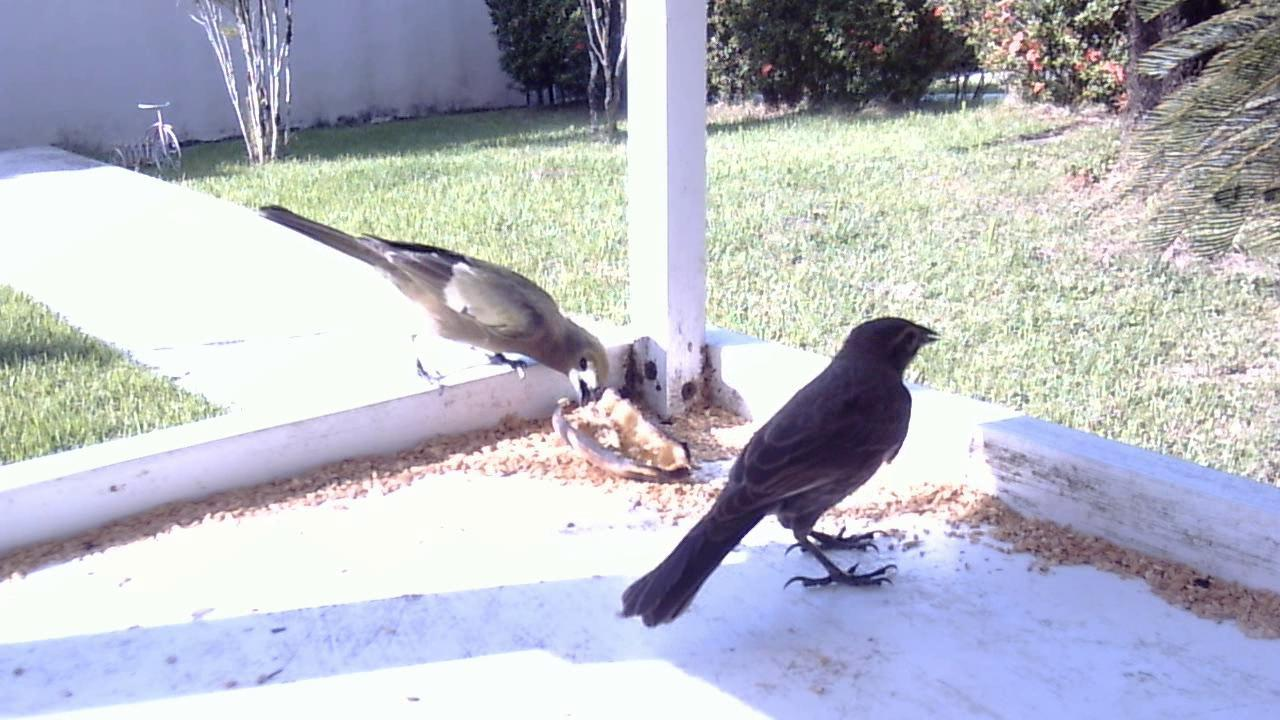chupim: (610, 321, 944, 627)
sanhaco_do_coqueiro: (253, 203, 608, 419)
